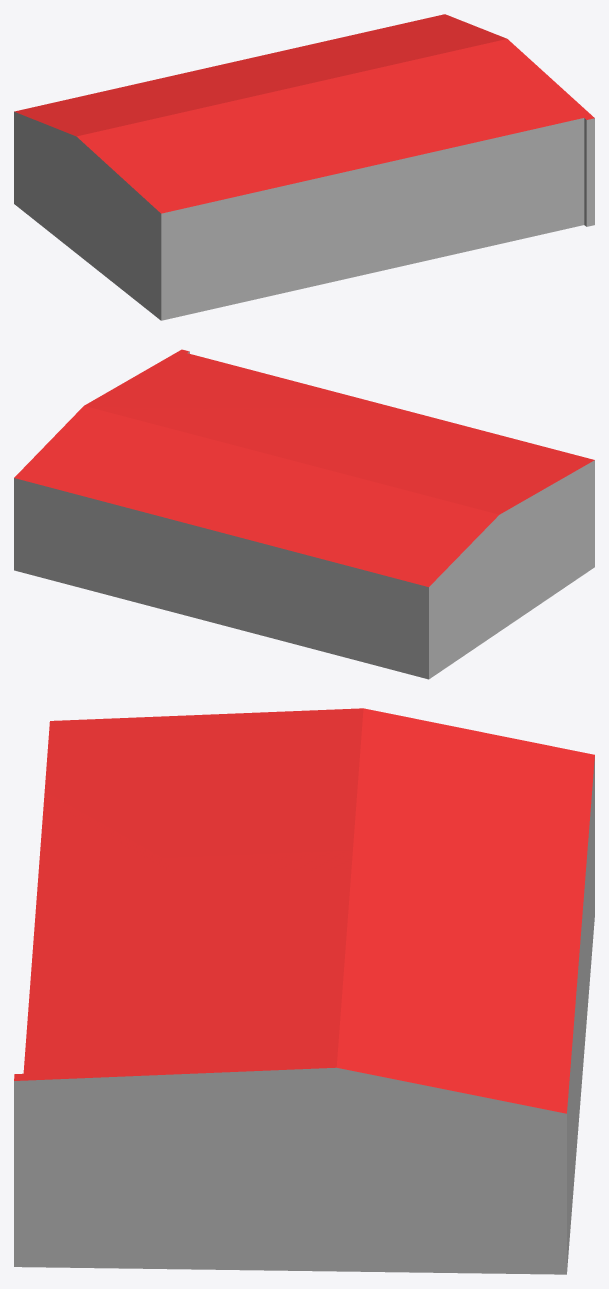
The model's file is DEBY_LOD2_4727981.dae.
The picture shows the model from 3 angles, top to bottom: view 1: azimuth 30°, elevation 25°; view 2: azimuth 150°, elevation 25°; view 3: azimuth 270°, elevation 25°; orthographic projection. The views are drawn at different scales.
Size of the model in its own units: 15.38 by 10.29 by 3.98.
